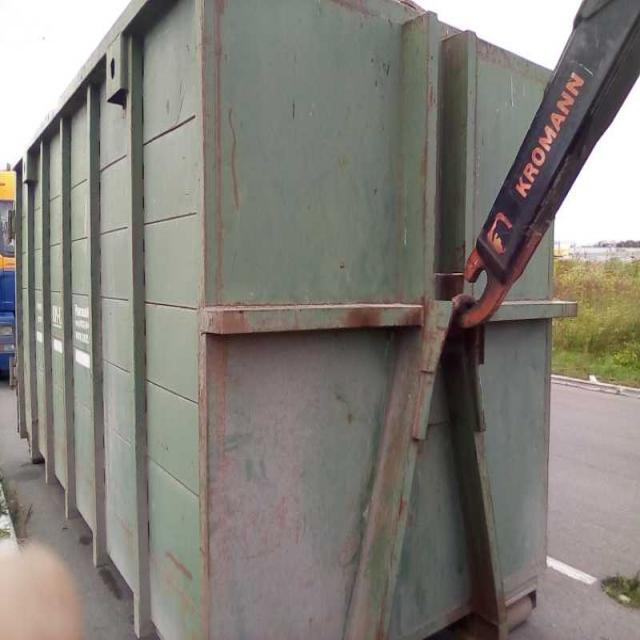Dumpster: (15, 0, 553, 635)
